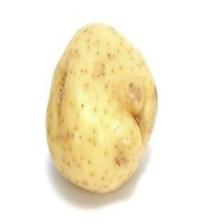Potato: (45, 22, 160, 196)
